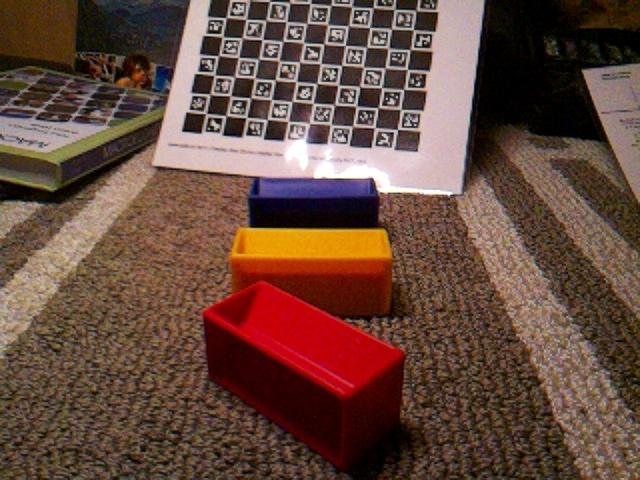blue: (246, 176, 381, 229)
red: (201, 279, 407, 472)
yellow: (229, 225, 395, 317)
